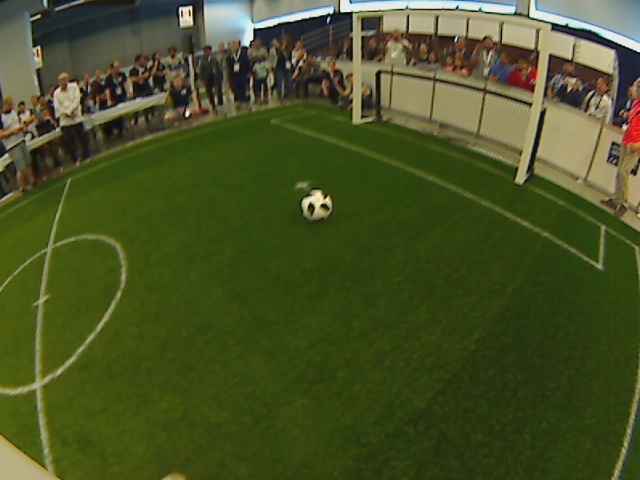ball: (298, 189, 333, 220)
